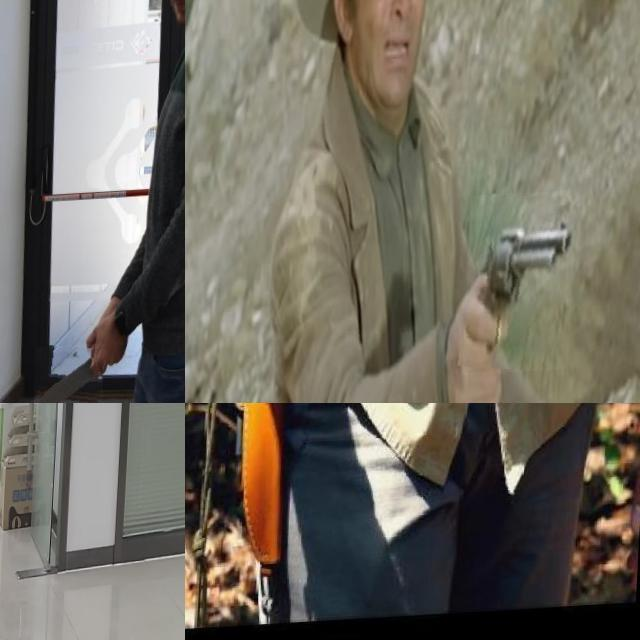-: (231, 403, 532, 485), (38, 347, 110, 403)
gun-knife-thesis - v11 Yolov5 augmented: (468, 195, 582, 379)
